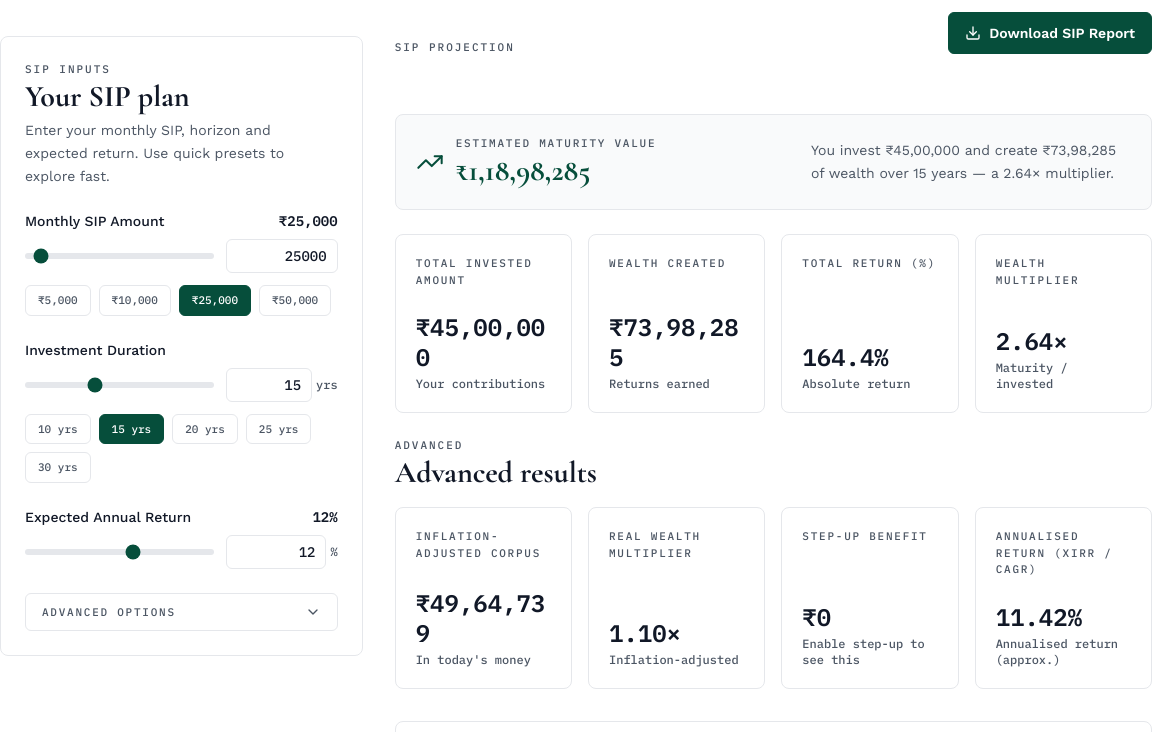
SipCalculator (dedicated SIP experience) › applies a duration preset
Click the button "30 yrs" at (58, 468), box [25,452,91,483]
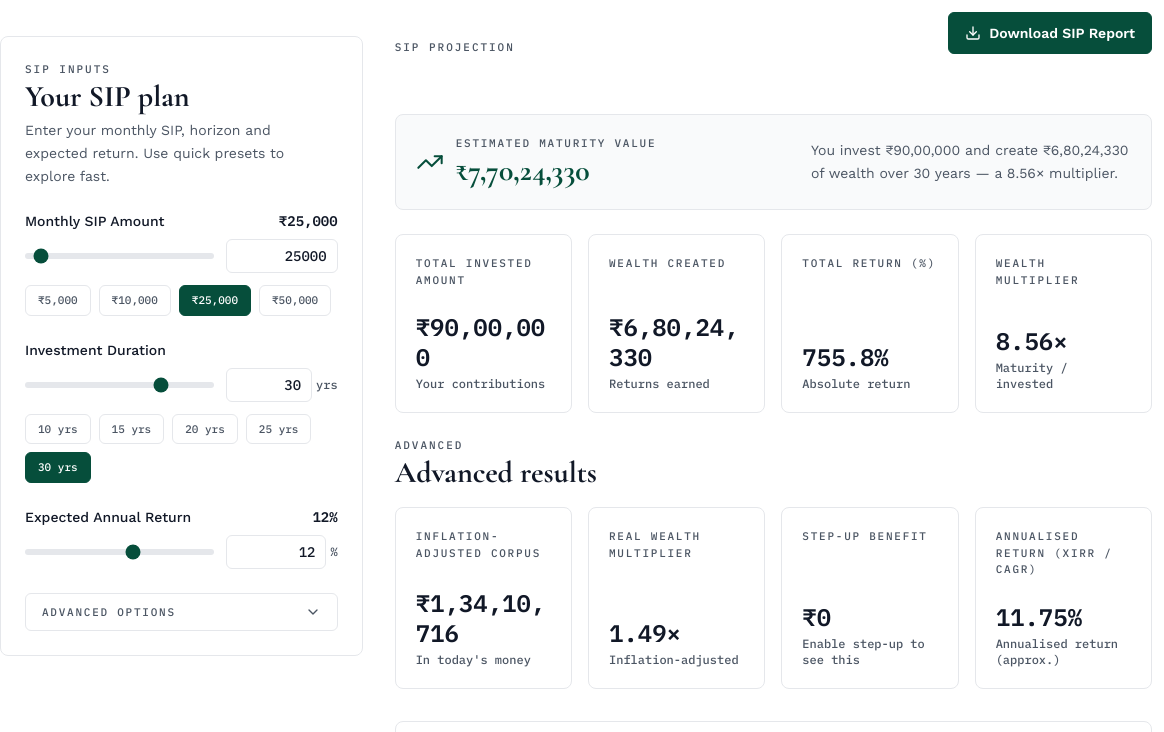
expect the number field with test id "field-sip-duration-input" holds "30": met, box [226,368,312,402]
